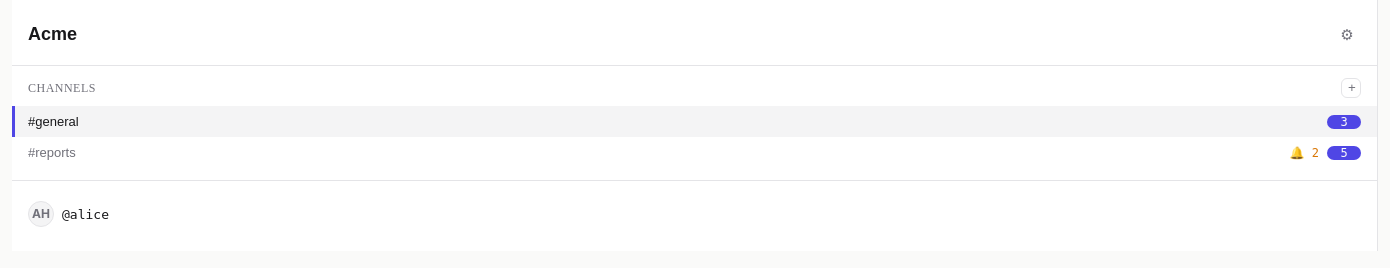
Test case: Rail (web spec §2) › the workspace switcher lists every membership and highlights the current one
This screenshot has width=1390, height=268.
Click the button "Acme" at (53, 34), box [28,16,1325,53]
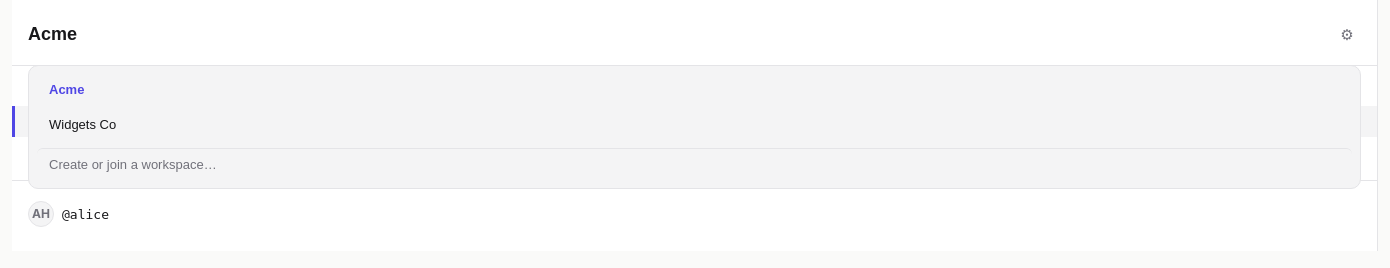
Expected: the menu item "Acme" is shown, [37,74,1352,105]
Expected: the menu item "Widgets Co" is shown, [37,109,1352,140]
